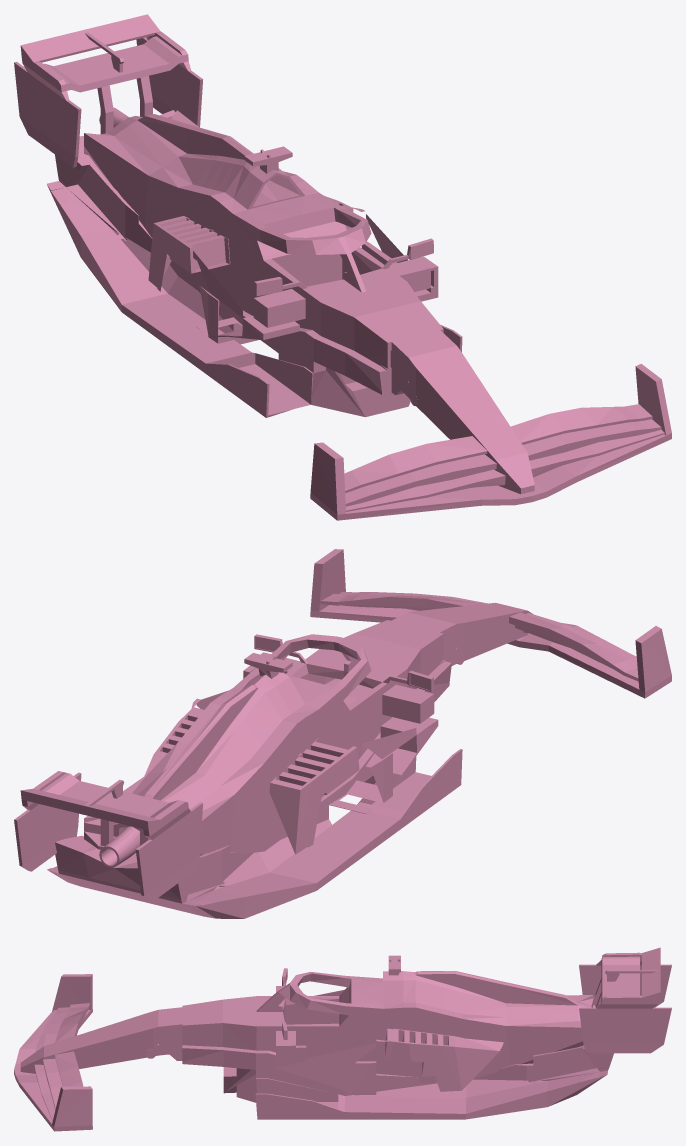
File: Mighty Kup.glb
3 renders of one model, top to bottom at view 1: azimuth 30°, elevation 25°; view 2: azimuth 150°, elevation 25°; view 3: azimuth 270°, elevation 25°, orthographic. The views are drawn at different scales.
Parts seen in each view (by area): view 1: Mesh_Mesh_head_geo.001_lambert2SG.001; view 2: Mesh_Mesh_head_geo.001_lambert2SG.001; view 3: Mesh_Mesh_head_geo.001_lambert2SG.001.
Part boxes in pixels (x1=…): Mesh_Mesh_head_geo.001_lambert2SG.001: x1=14, y1=14, x2=671, y2=520; Mesh_Mesh_head_geo.001_lambert2SG.001: x1=14, y1=549, x2=671, y2=918; Mesh_Mesh_head_geo.001_lambert2SG.001: x1=14, y1=947, x2=671, y2=1131.
Bounding box in the file's own units: 0.1308 × 0.0703 × 0.3088.
